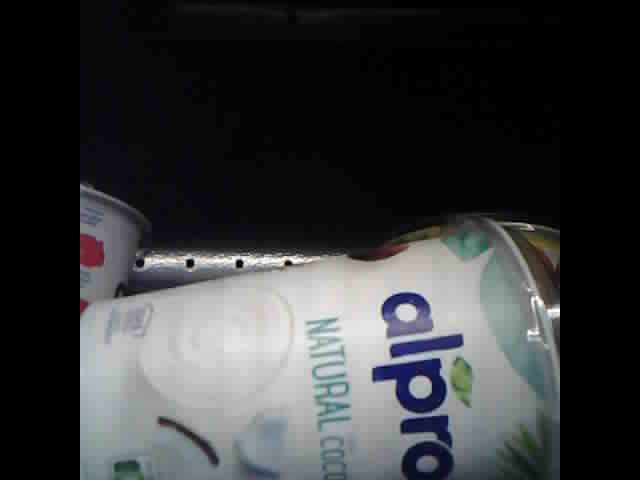alpro: (82, 209, 559, 479), (80, 175, 152, 326)
